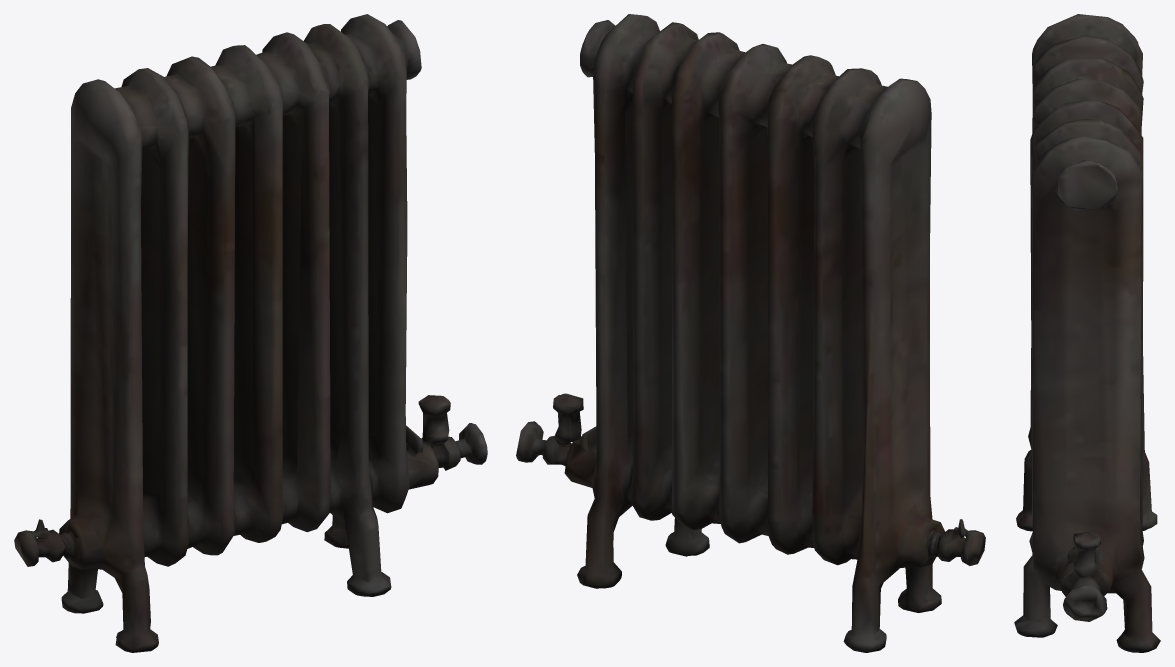
The model's file is sturdy-iron-radiator-v001.glb.
3 views of the same model, side by side, from view 1: azimuth 30°, elevation 25°; view 2: azimuth 150°, elevation 25°; view 3: azimuth 270°, elevation 25° (orthographic). The views are drawn at different scales.
Visible parts, largest first — view 1: sturdy-iron-radiator; view 2: sturdy-iron-radiator; view 3: sturdy-iron-radiator.
Boxes of the visible parts, x1=… form: sturdy-iron-radiator: x1=14, y1=14, x2=487, y2=652; sturdy-iron-radiator: x1=516, y1=14, x2=985, y2=652; sturdy-iron-radiator: x1=1014, y1=14, x2=1160, y2=652.
Size of the model in its own units: 0.7004 by 0.7998 by 0.2089.
1 material, 1 textured.
